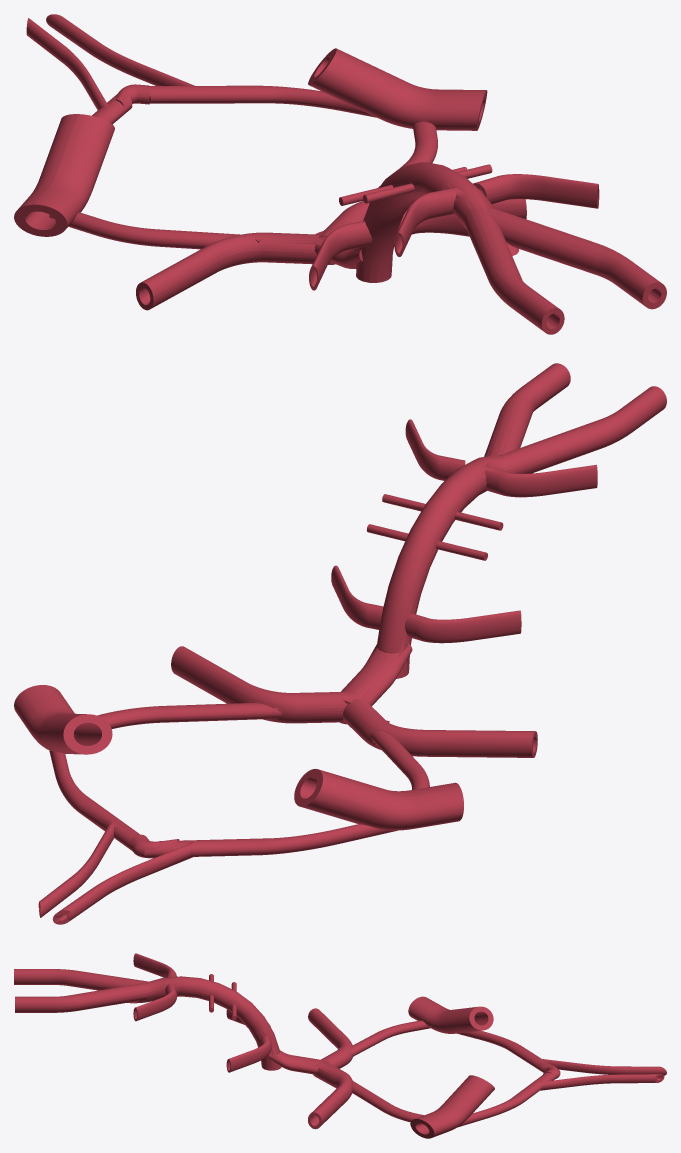
3 renders of one model, top to bottom at view 1: azimuth 30°, elevation 25°; view 2: azimuth 150°, elevation 25°; view 3: azimuth 270°, elevation 25°, orthographic. The views are drawn at different scales.
Visible parts, largest first — view 1: Object_2; view 2: Object_2; view 3: Object_2.
Boxes of the visible parts, bbox=[...] form: Object_2: bbox=[14, 14, 666, 334]; Object_2: bbox=[14, 363, 666, 924]; Object_2: bbox=[14, 953, 666, 1138].
Bounding box in the file's own units: 80.56 × 29.04 × 171.
